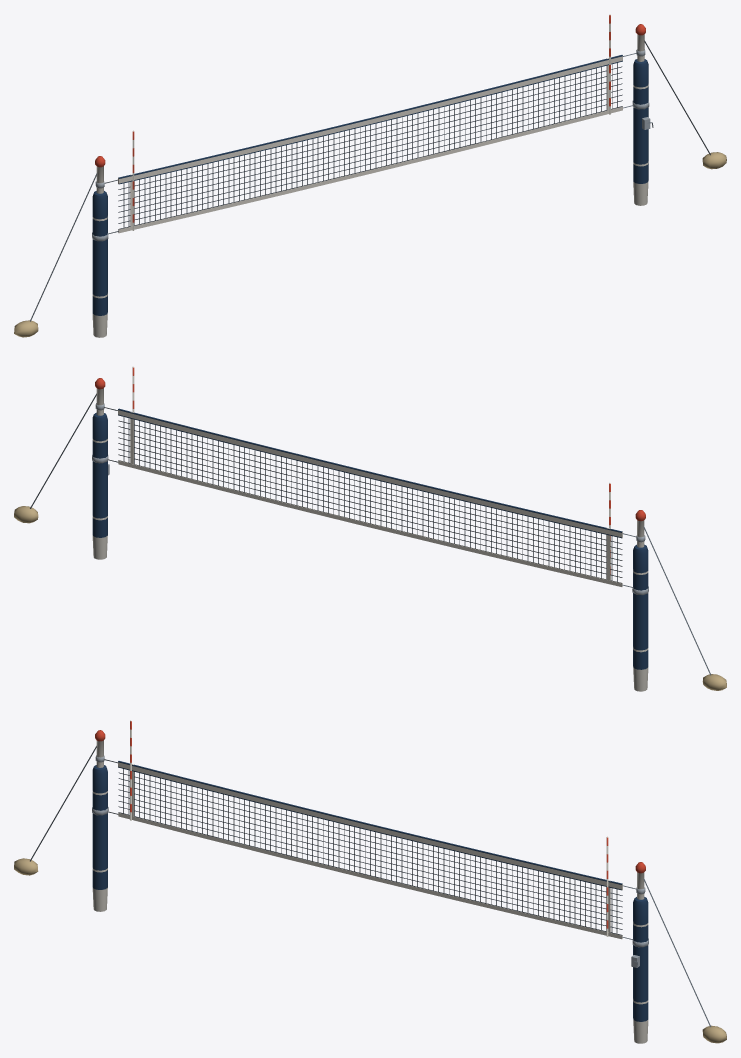
File: volleyball-net.glb
The picture shows the model from 3 angles, top to bottom: view 1: azimuth 30°, elevation 25°; view 2: azimuth 150°, elevation 25°; view 3: azimuth 330°, elevation 25°; orthographic projection.
Parts seen in each view (by area): view 1: volleyball-net; view 2: volleyball-net; view 3: volleyball-net.
Part boxes in pixels (box(x1,y1,x2,y2)): volleyball-net: box(14, 14, 726, 337); volleyball-net: box(14, 366, 726, 691); volleyball-net: box(14, 720, 726, 1043).
Bounding box in the file's own units: 12.08 × 3.2 × 0.3863.
